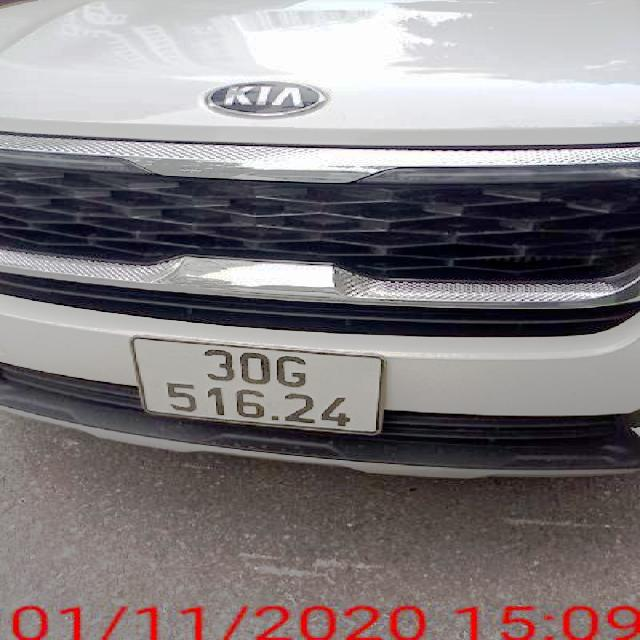license_plate: (136, 336, 382, 434)
